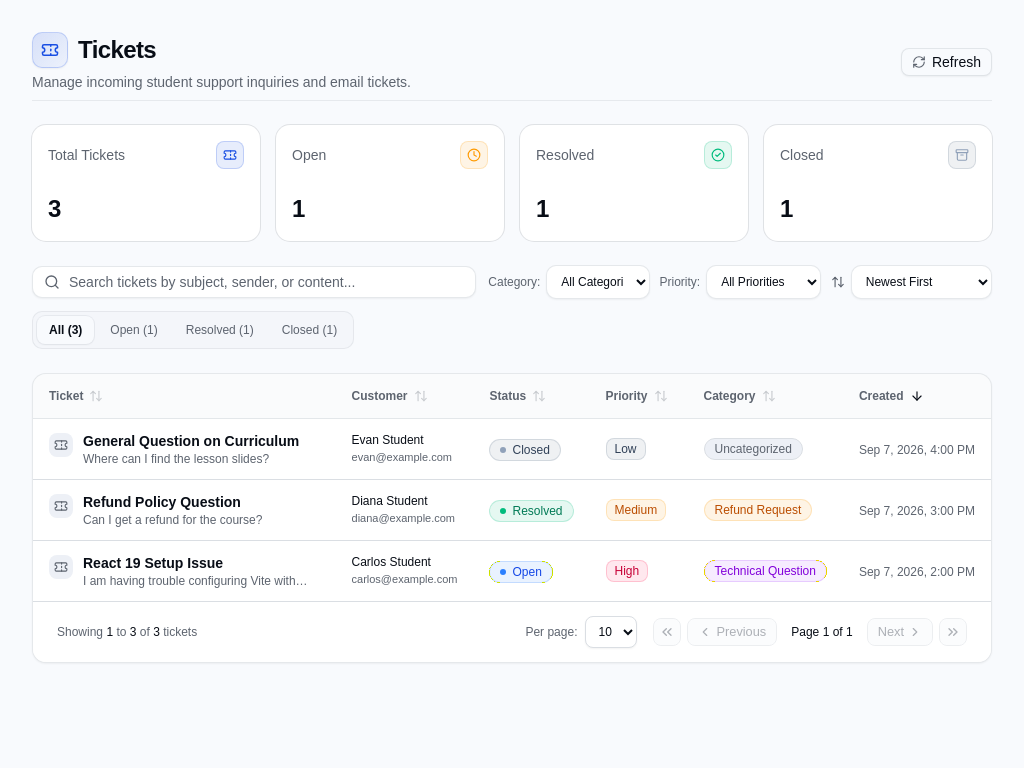
Test: TicketsPage Component › displays empty state when search matches nothing and allows clearing filters
Expected: the link "React 19 Setup Issue" is shown, [83,555,223,571]
Type "nonexistent-query-xyz" into the search field with test id "tickets-search-input" at point(254, 282), box [32,266,476,298]
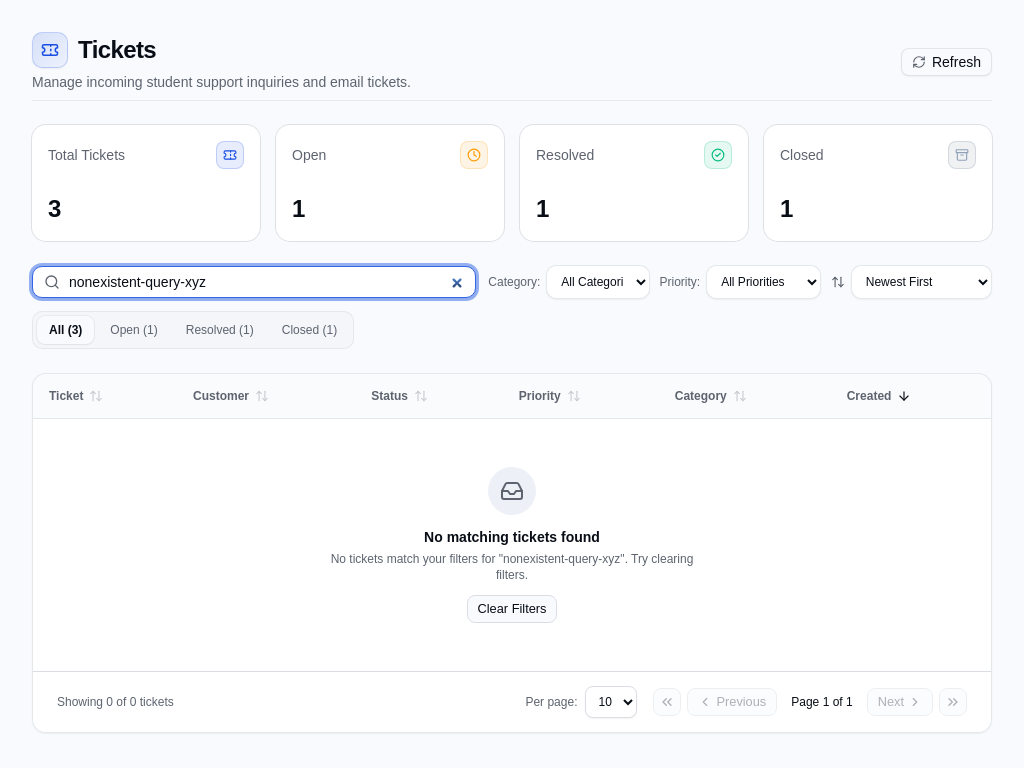
Expected: the text "No matching tickets found" is shown, [424,529,600,545]
Expected: the button with test id "clear-filters-button" is shown
Click the button with test id "clear-filters-button" at point(512, 609), box [466,595,558,623]
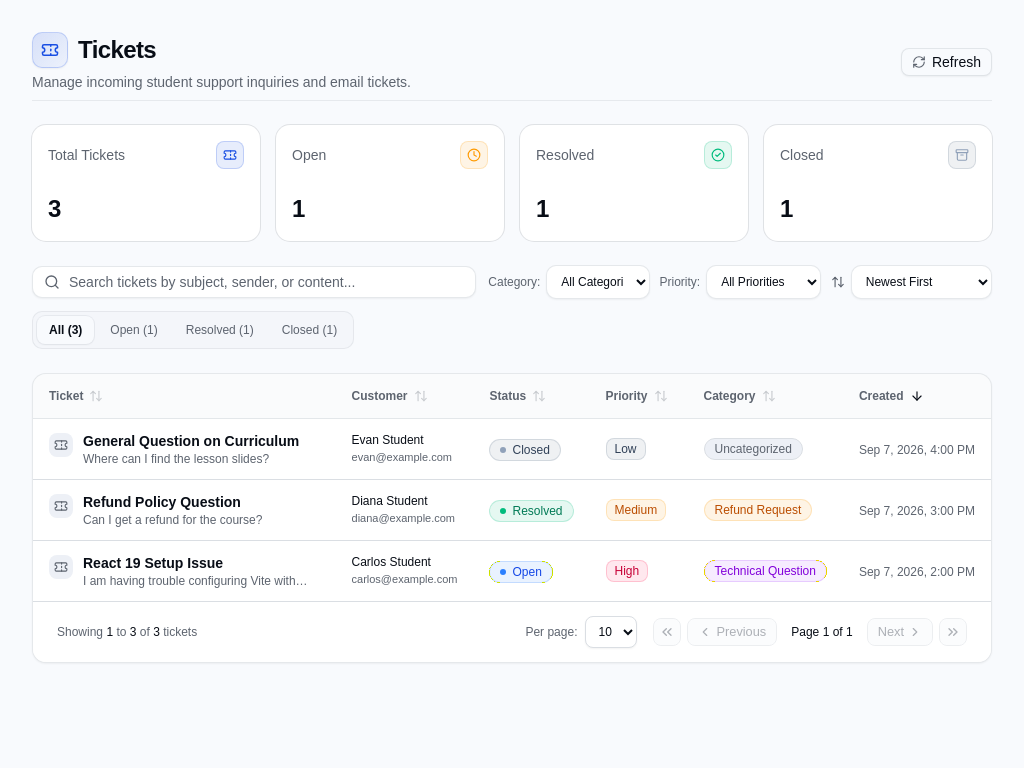
Expected: the search field with test id "tickets-search-input" is empty, [32,266,476,298]
Expected: the link "React 19 Setup Issue" is shown, [83,555,223,571]
Expected: the link "Refund Policy Question" is shown, [83,492,262,512]
